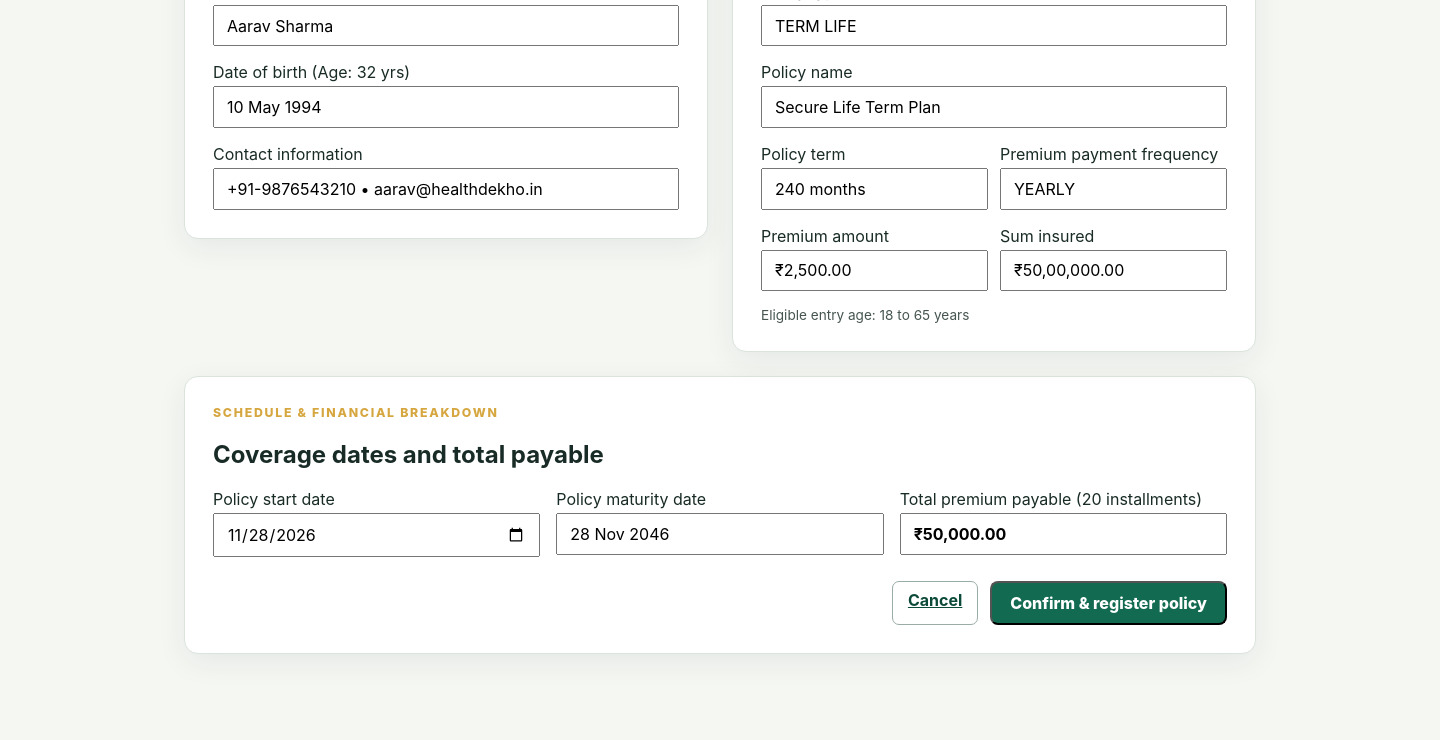
Scenario: PolicyRegistrationPage › submits registration payload and displays generated policy identifier confirmation
(page scrolled)
Type "2026-12-01" into the date field labelled "Policy start date" at (377, 535), box [213,513,540,557]
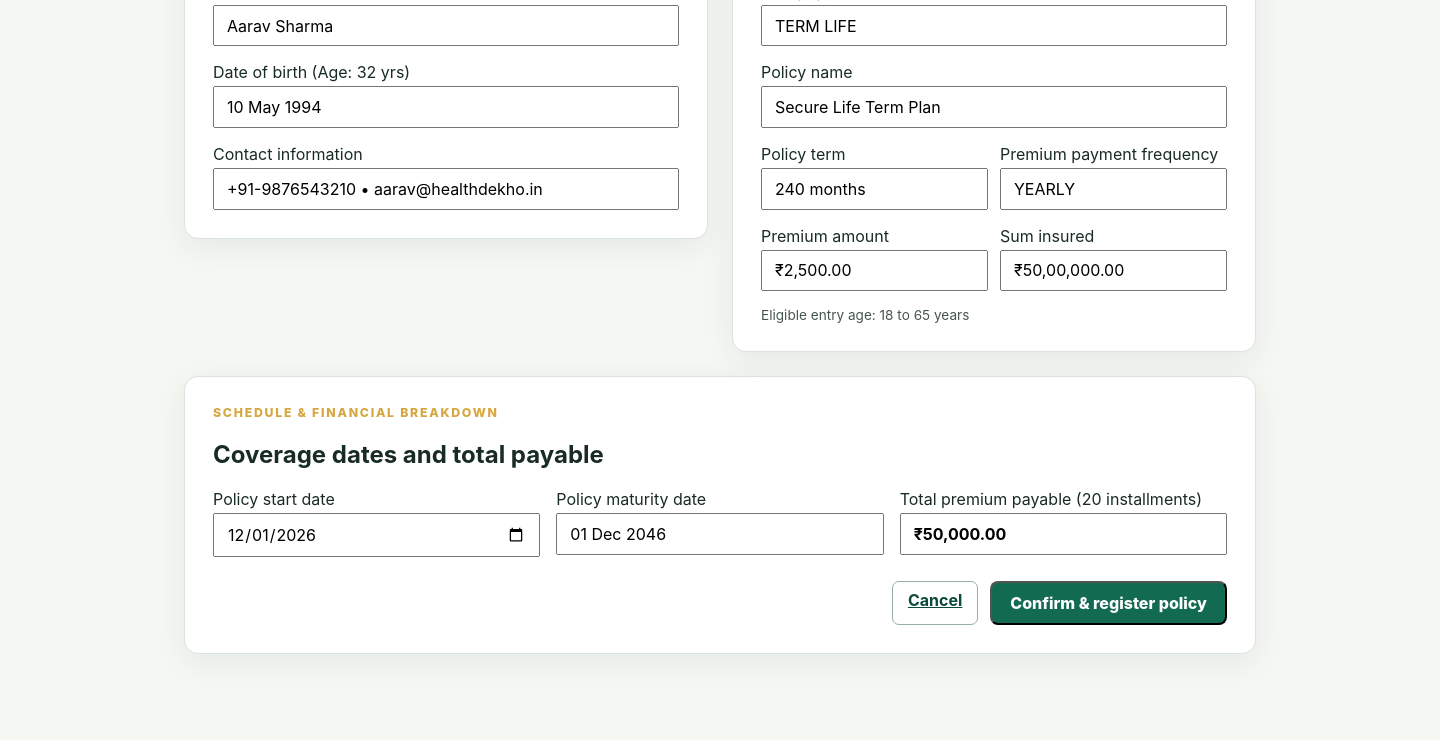
Click the button "Confirm & register policy" at (1109, 603), box [990,581,1227,625]
(page scrolled)
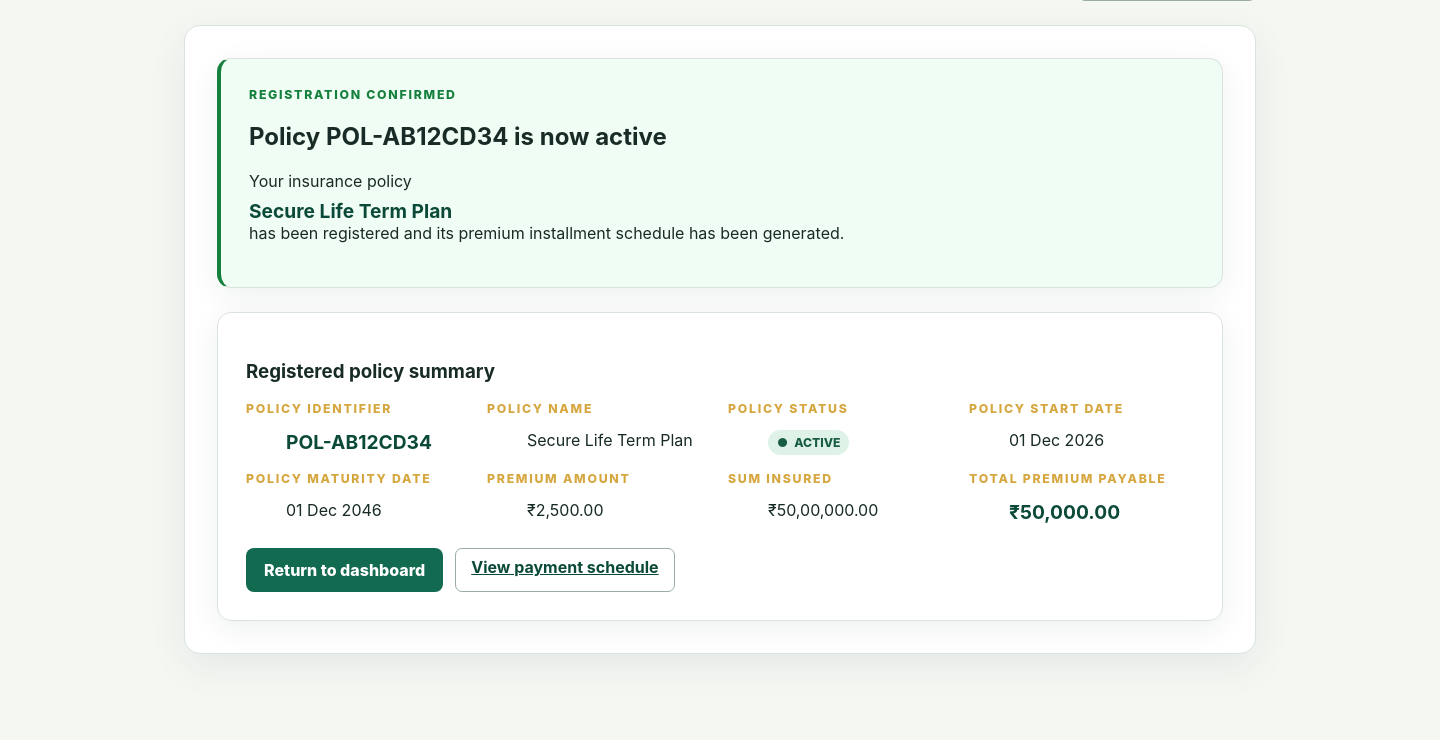
Check: the heading "Policy POL-AB12CD34 is now active" is shown, box [249,122,667,151]
